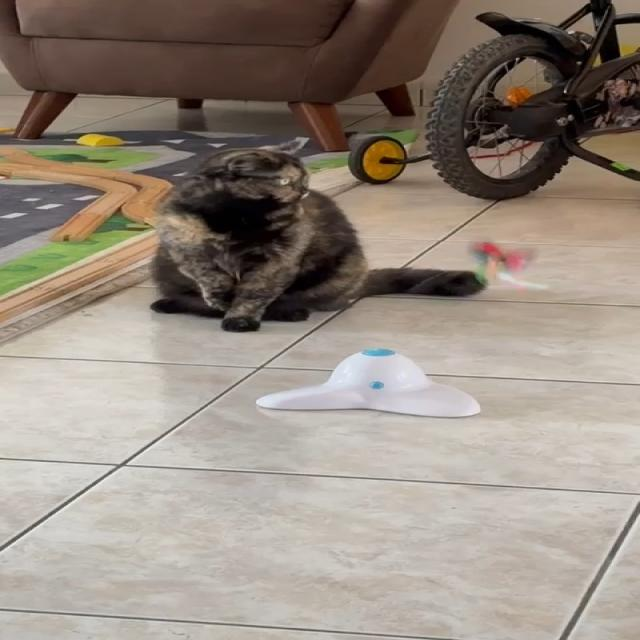authorized: (148, 137, 485, 332)
